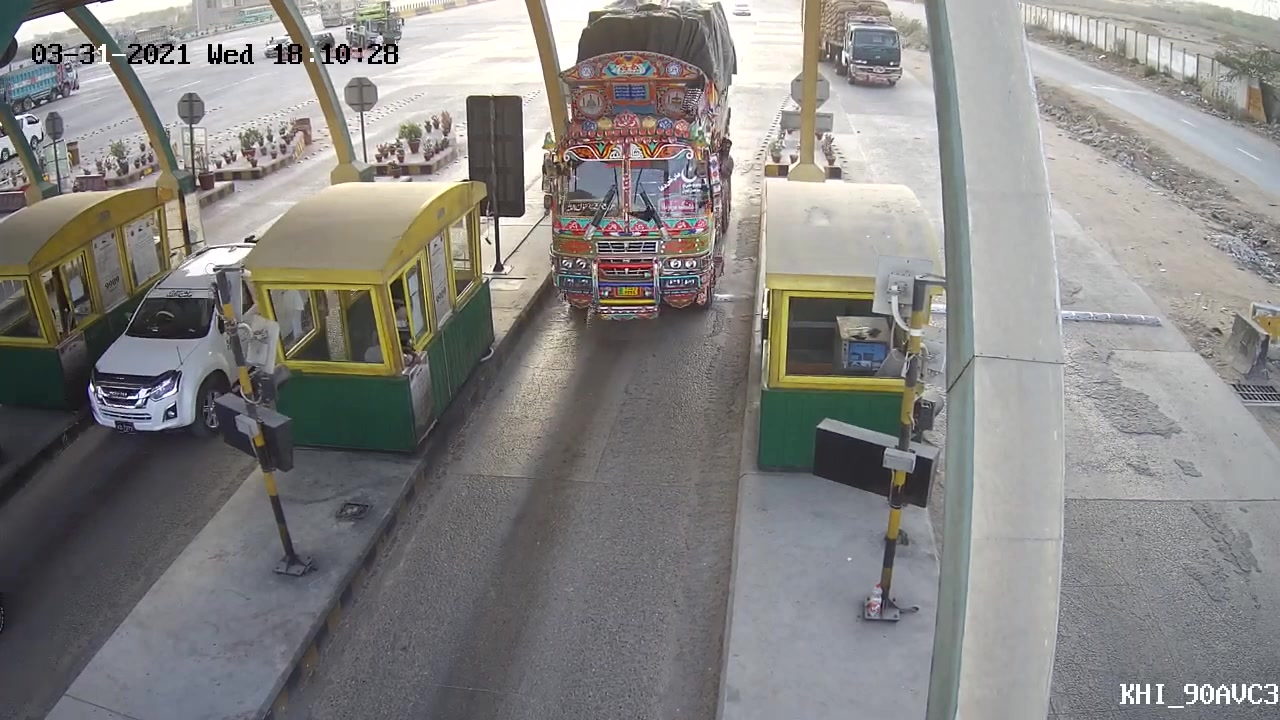F5: (538, 23, 744, 329)
